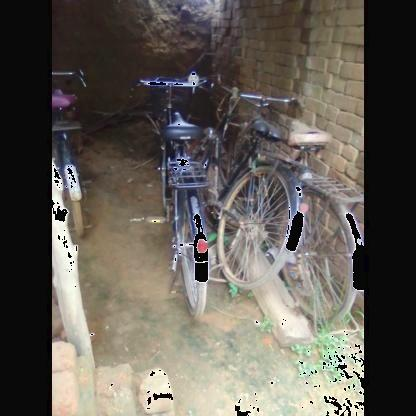Bicycle: (118, 64, 228, 324), (51, 66, 96, 370)
